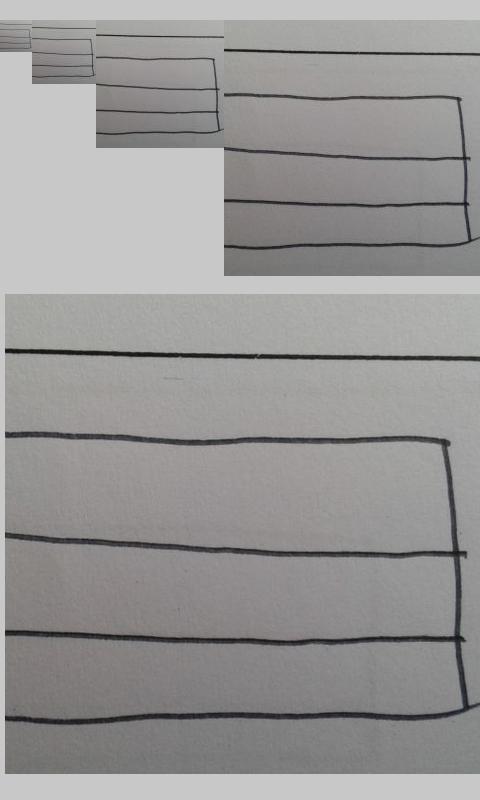list_view: (4, 425, 473, 730), (227, 91, 471, 252), (99, 56, 222, 136), (32, 38, 95, 78), (1, 28, 31, 50)
